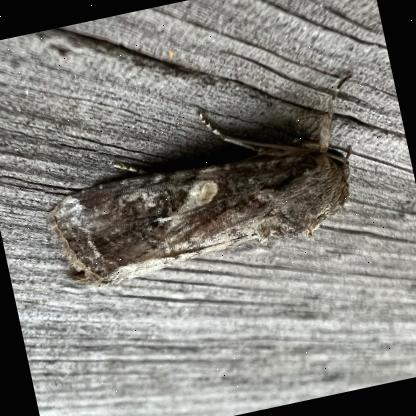Fall Armyworm Moth: (27, 67, 390, 298)
